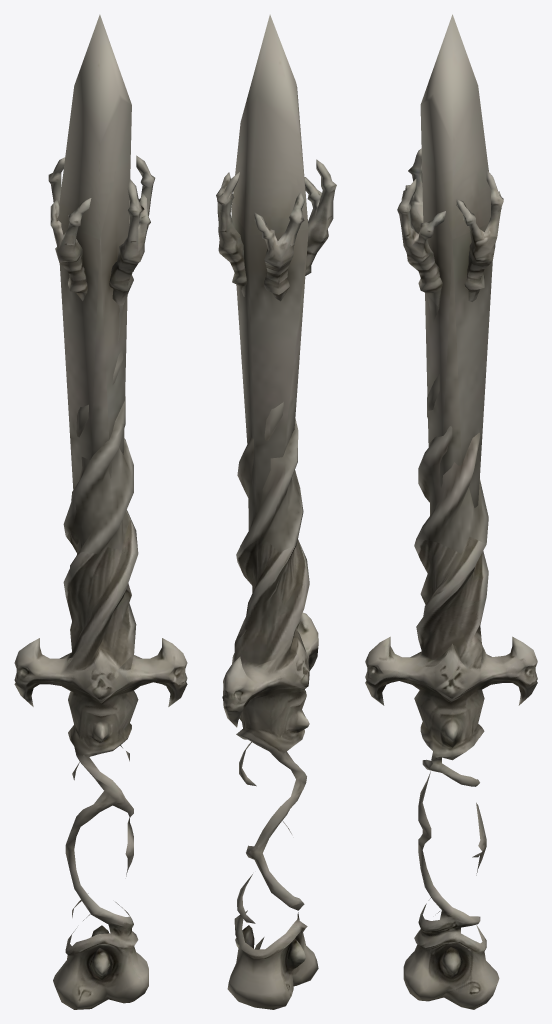
File: gear_wand.glb
The picture shows the model from 3 angles, left to right: view 1: azimuth 90°, elevation 25°; view 2: azimuth 150°, elevation 25°; view 3: azimuth 270°, elevation 25°; orthographic projection.
Parts seen in each view (by area): view 1: tripo_node_4009e754-ad25-41c4-abaf-bd196f1e3504; view 2: tripo_node_4009e754-ad25-41c4-abaf-bd196f1e3504; view 3: tripo_node_4009e754-ad25-41c4-abaf-bd196f1e3504.
Part boxes in pixels (bbox=[...]): tripo_node_4009e754-ad25-41c4-abaf-bd196f1e3504: bbox=[14, 14, 187, 1009]; tripo_node_4009e754-ad25-41c4-abaf-bd196f1e3504: bbox=[216, 14, 336, 1009]; tripo_node_4009e754-ad25-41c4-abaf-bd196f1e3504: bbox=[365, 14, 537, 1009].
Bounding box in the file's own units: 0.0519 × 0.52 × 0.0824.
1 material, 1 textured.
